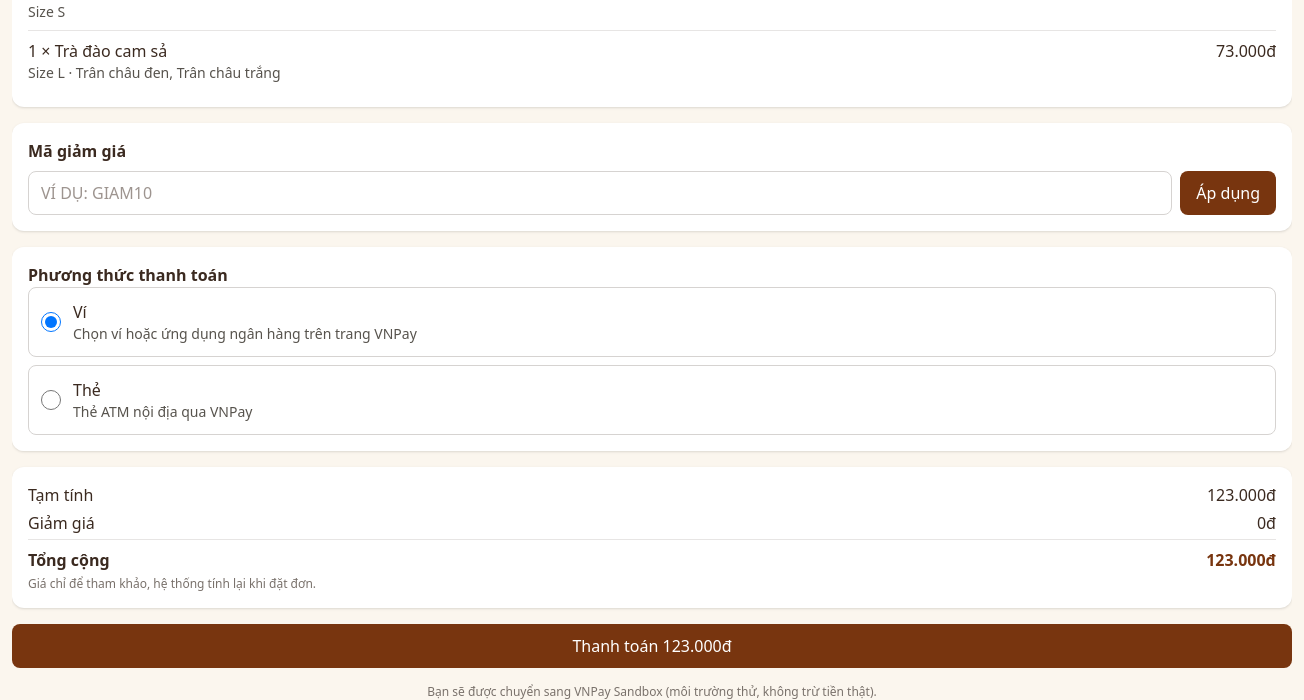
Test case: Màn Checkout (CT-69 – CT-74) › CT-73: tạo đơn lỗi (thiếu nguyên liệu) thì báo lỗi tiếng Việt, ở lại trang, giữ giỏ, mở lại nút
The image size is (1304, 700).
(page scrolled)
Click the button "Thanh toán 123.000đ".
click(652, 646)  # box x1=12 y1=624 x2=1292 y2=668
(page scrolled)
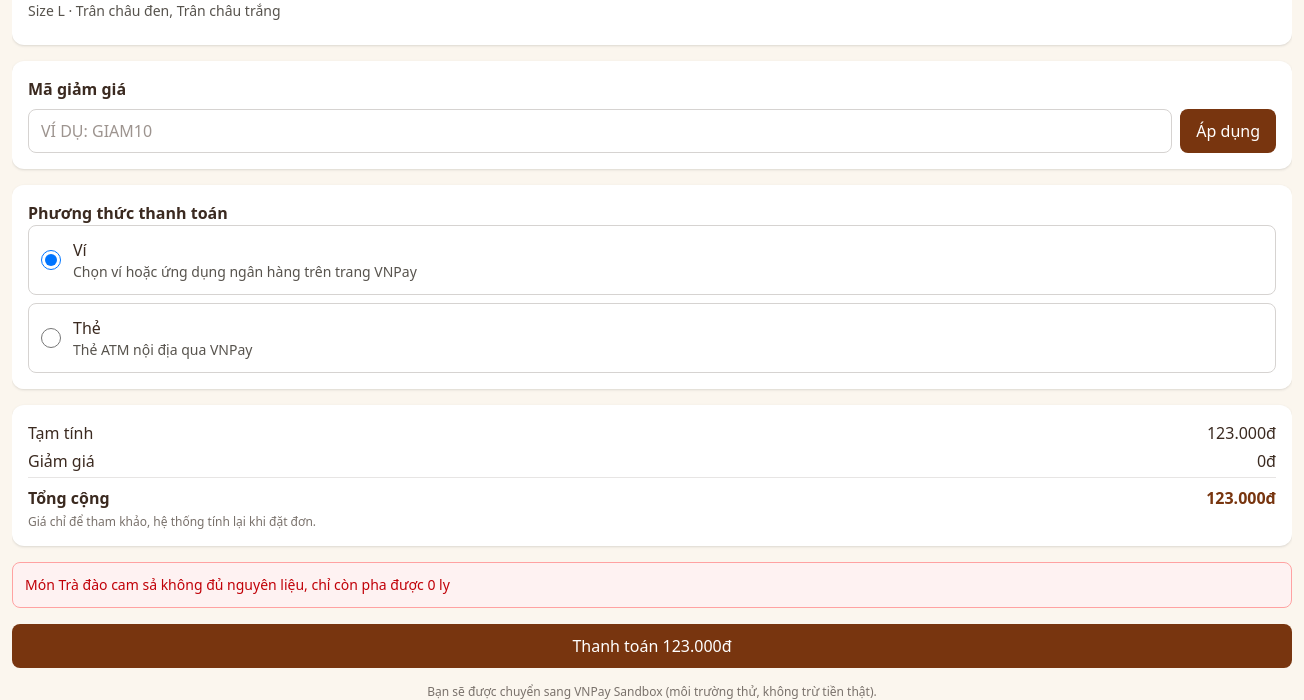
Now the message reads "Món Trà đào cam sả không đủ nguyên liệu, chỉ còn pha được 0 ly", box x1=25 y1=575 x2=450 y2=594
